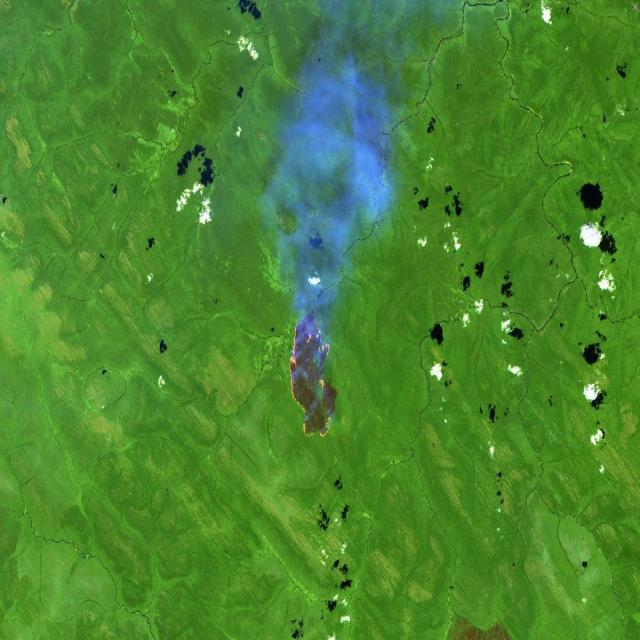fire: (285, 309, 343, 446)
